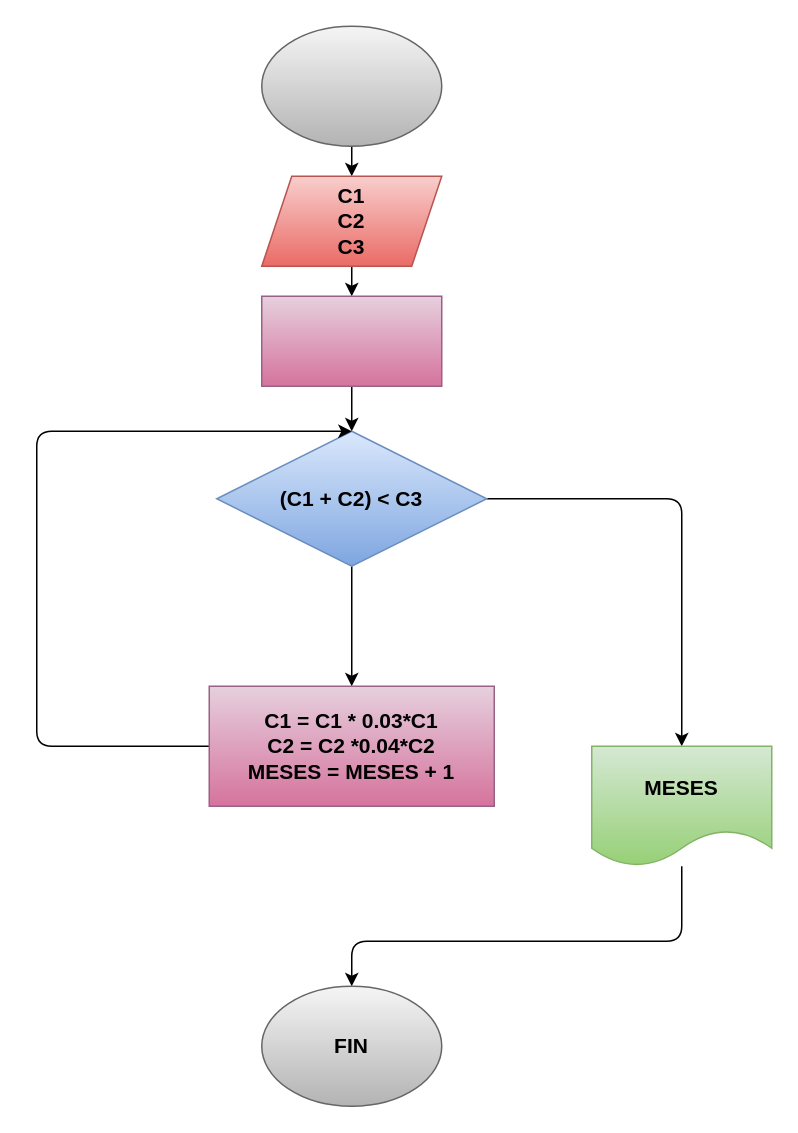
Image size: 798x1133. Some labels were removed from this diagram. Here are the shapes that lost their labels. From the top down, the box of each, then its label:
(260, 25, 442, 146): INICIO
(260, 295, 442, 386): MESES = 0
